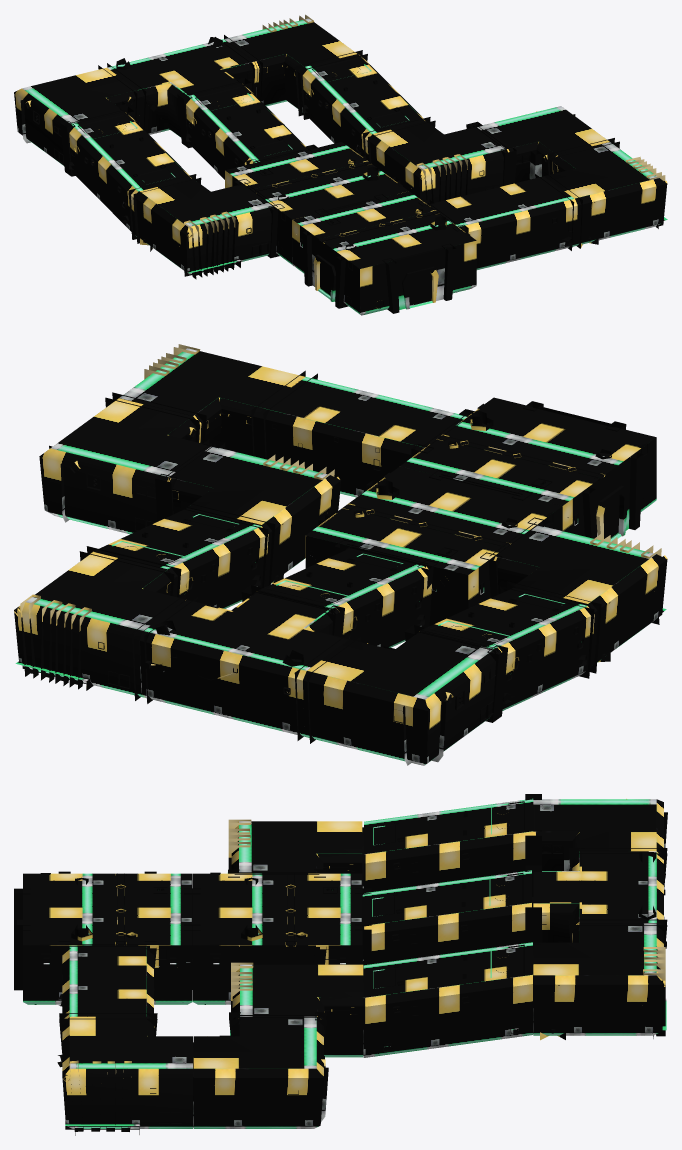
File: Combined_Mesh_root_scene__6_2d4a9e78__zombies2_diffuse_12_078cf75e_c1f257.obj
The picture shows the model from 3 angles, top to bottom: view 1: azimuth 30°, elevation 25°; view 2: azimuth 150°, elevation 25°; view 3: azimuth 270°, elevation 25°; orthographic projection. The views are drawn at different scales.
Bounding box in the file's own units: 71.92 × 12.27 × 77.15.
202 materials, 202 textured.
